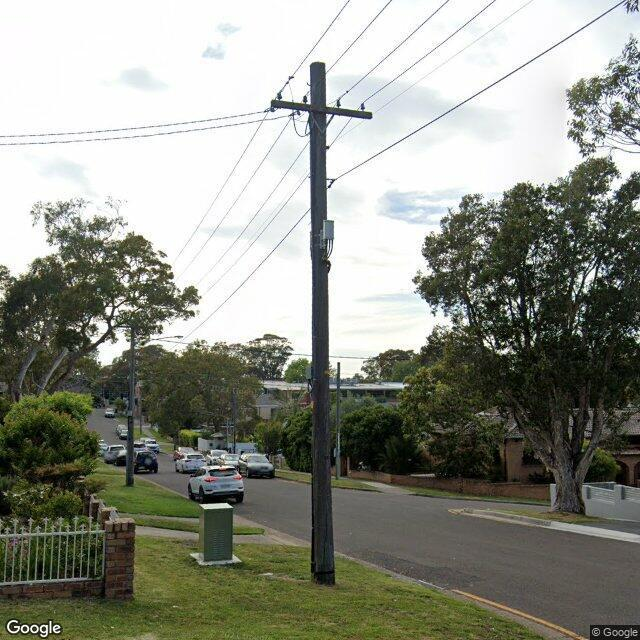crossarm: (271, 99, 374, 119)
timber-pole: (310, 61, 336, 585), (125, 324, 136, 486)
